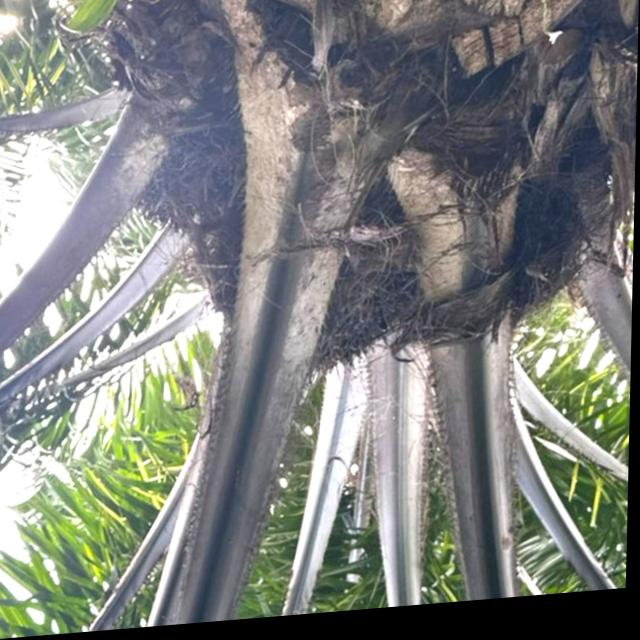almost: (201, 176, 406, 387)
